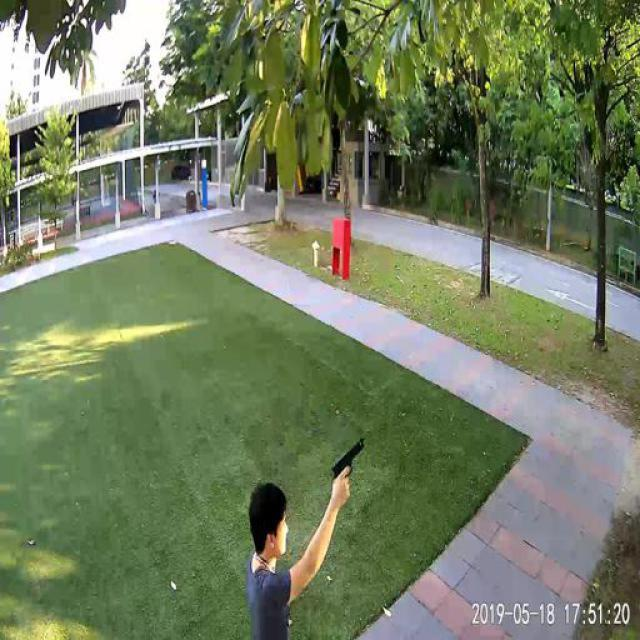weapon: (329, 439, 367, 495)
